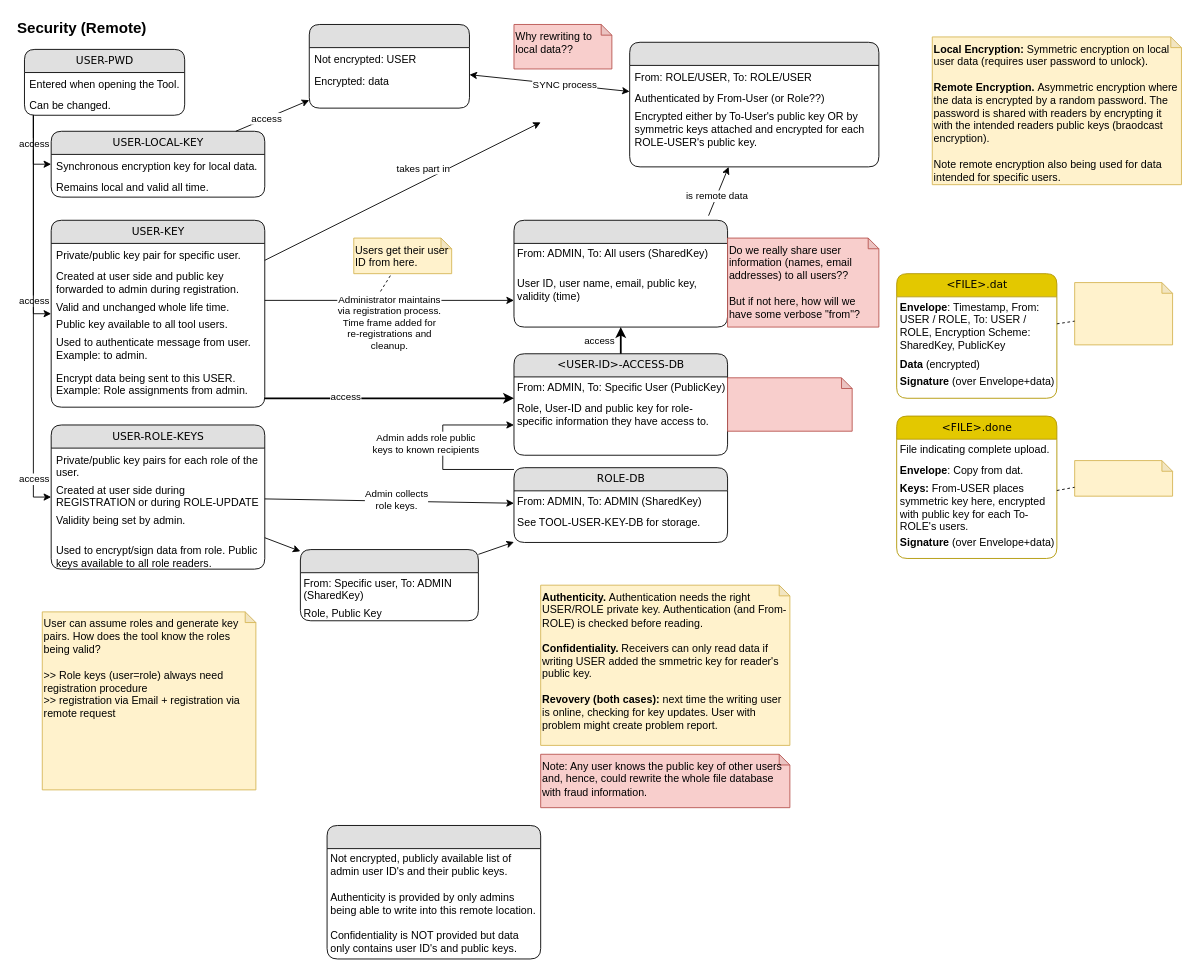
Some shapes in this 1197 by 978 pixel diagram are drawn without their labels. Each missing label, with the box of its shape:
<USER-ID>-ROLE-REQUEST: (299, 549, 478, 621)
ADMIN-DB: (326, 825, 541, 959)
Athentication? How to ensure that data is coming from ADMIN?: (727, 377, 852, 431)
LOCAL DATA: (308, 24, 469, 108)
REMOTE DATA: (629, 41, 879, 167)
See "broadcast encryption": (1074, 460, 1173, 496)
Timestamp (UTC) must ensure synchronized time. NTP source??: (1074, 282, 1173, 345)
USER-DATABASE: (513, 219, 728, 327)
